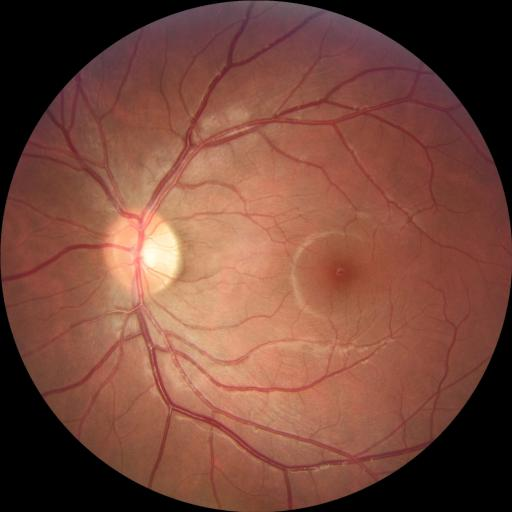Optic Cup: (132, 241, 161, 269)
Optic Disc: (103, 206, 182, 294)
